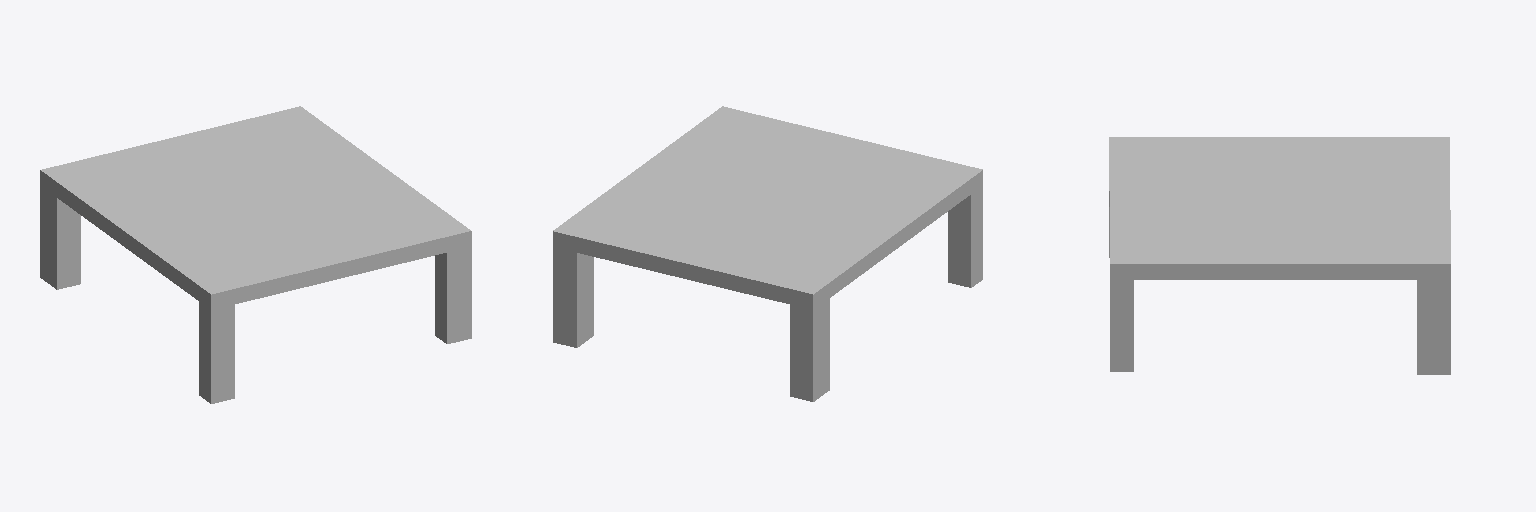
File: pokeMesa.obj
3 views of the same model, side by side, from view 1: azimuth 30°, elevation 25°; view 2: azimuth 150°, elevation 25°; view 3: azimuth 270°, elevation 25° (orthographic).
Parts seen in each view (by area): view 1: mesaPokemon:pCube1; view 2: mesaPokemon:pCube1; view 3: mesaPokemon:pCube1.
Boxes of the visible parts, <box> form: mesaPokemon:pCube1: <box>40,106,471,403</box>; mesaPokemon:pCube1: <box>553,106,982,401</box>; mesaPokemon:pCube1: <box>1109,137,1450,374</box>.
Bounding box in the file's own units: 1.88 × 0.7664 × 2.13.